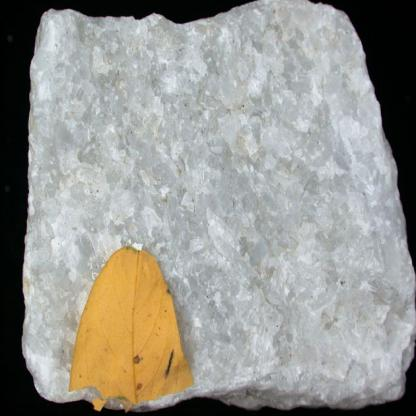Metamorphic_Marble: (23, 4, 415, 415)
